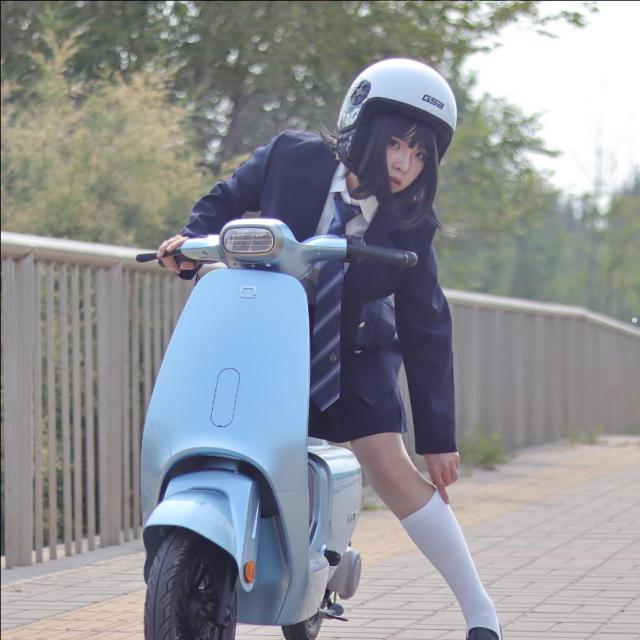helmet: (330, 54, 461, 202)
